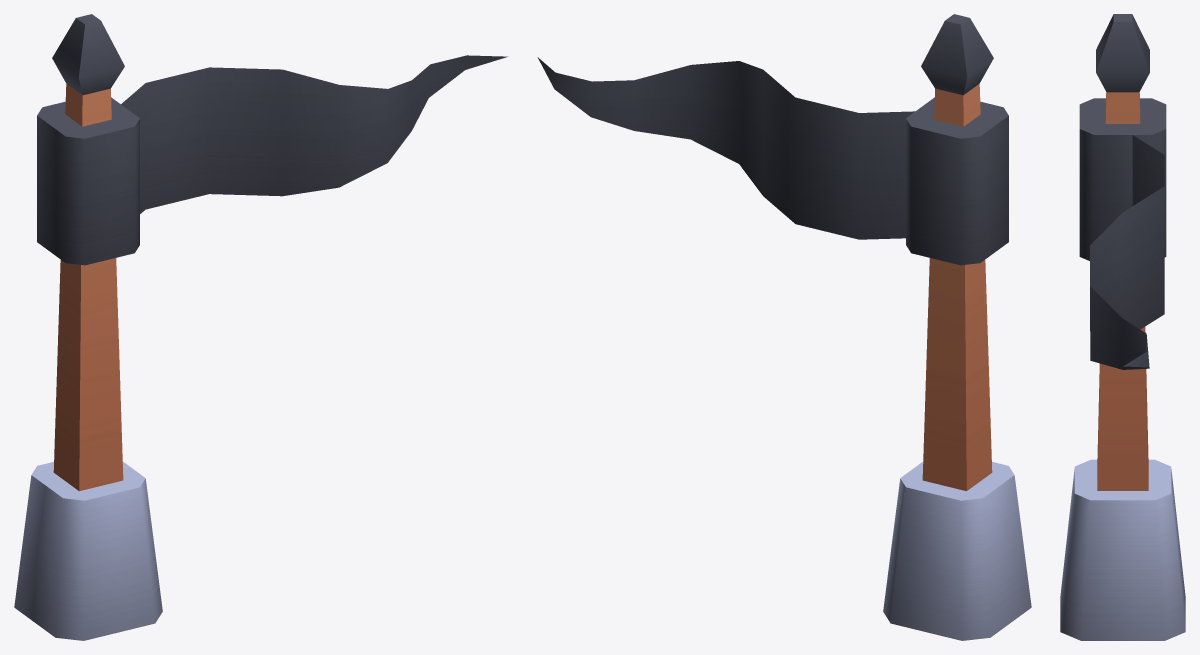
The model's file is flag-pirate-pennant.gltf.
3 renders of one model, left to right at view 1: azimuth 30°, elevation 25°; view 2: azimuth 150°, elevation 25°; view 3: azimuth 270°, elevation 25°, orthographic.
Parts seen in each view (by area): view 1: flag-pirate-pennant; view 2: flag-pirate-pennant; view 3: flag-pirate-pennant.
Part boxes in pixels (<box>): flag-pirate-pennant: <box>14,14,507,640</box>; flag-pirate-pennant: <box>537,14,1031,640</box>; flag-pirate-pennant: <box>1060,14,1185,640</box>.
Size of the model in its own units: 1.76 by 2.1 by 0.3989.
1 material, 1 textured.
